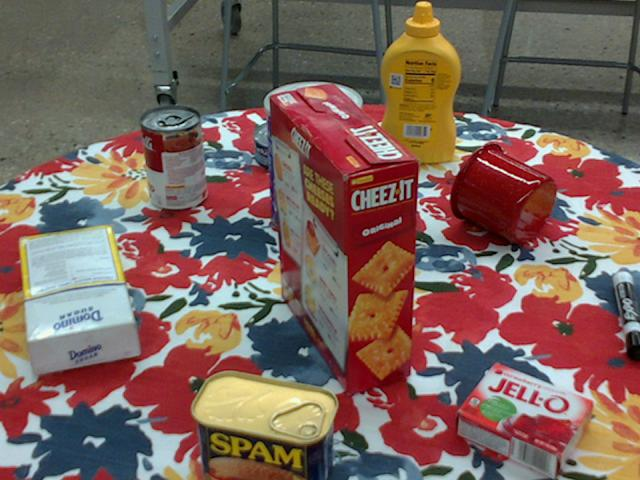cracker_box: (268, 86, 415, 396)
gelatin_box: (455, 362, 593, 476)
large_marker: (613, 269, 639, 356)
master_chef_can: (264, 80, 361, 237)
mug: (449, 142, 555, 243)
mustard_bottle: (378, 3, 459, 163)
potted_meat_can: (187, 373, 335, 479)
sugar_box: (21, 228, 138, 372)
tomato_soup_can: (139, 105, 205, 211)
tuna_fish_can: (254, 119, 322, 171)
